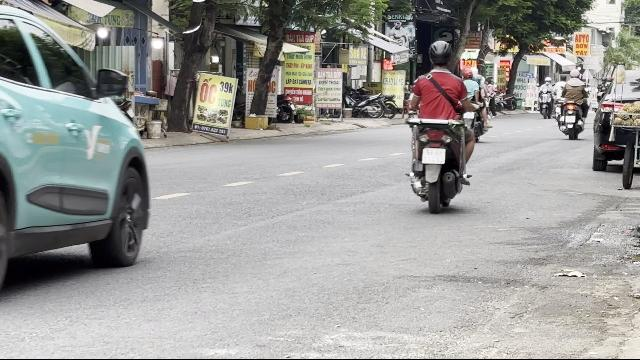helmet: (426, 40, 454, 71)
licenseplate: (422, 148, 444, 164)
motorcyclist: (401, 38, 477, 212)
